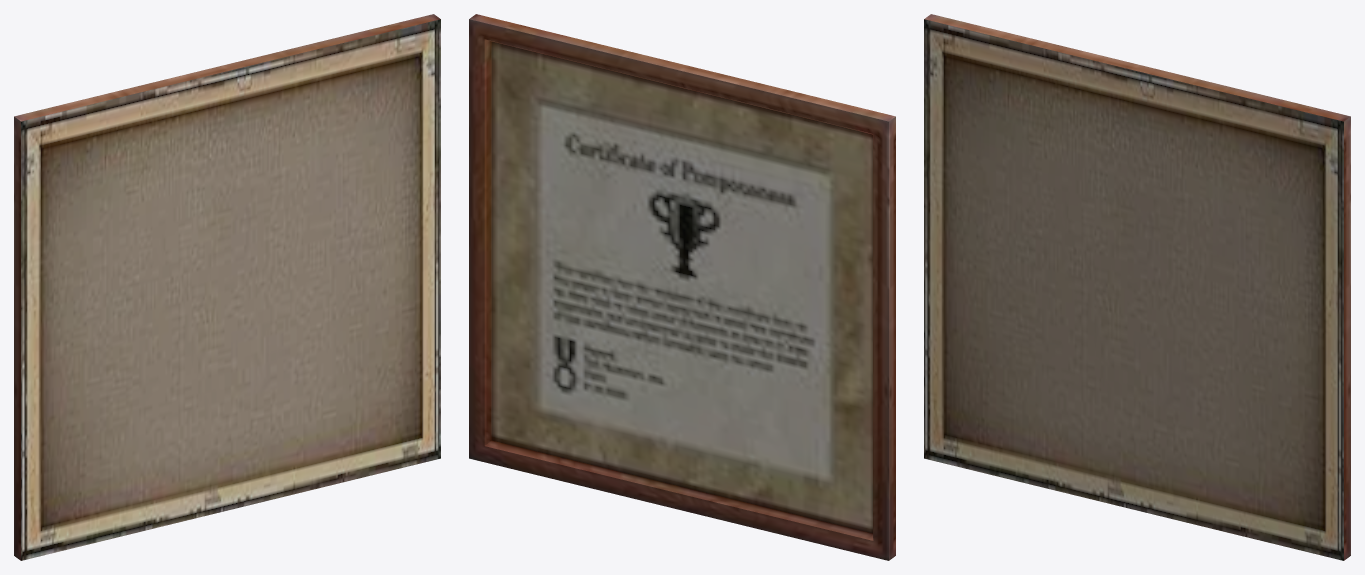
File: offcertificatea.glb
3 renders of one model, left to right at view 1: azimuth 30°, elevation 25°; view 2: azimuth 150°, elevation 25°; view 3: azimuth 330°, elevation 25°, orthographic.
Visible parts, largest first — view 1: 0_Poster_backing, 1_offcertificatea; view 2: 1_offcertificatea; view 3: 0_Poster_backing, 1_offcertificatea.
Part boxes in pixels (bbox=[...]): 0_Poster_backing: bbox=[21, 19, 440, 560]; 1_offcertificatea: bbox=[14, 14, 440, 560]; 1_offcertificatea: bbox=[469, 14, 895, 560]; 0_Poster_backing: bbox=[924, 19, 1343, 560]; 1_offcertificatea: bbox=[924, 14, 1350, 560].
Size of the model in its own units: 0.6096 by 0.6096 by 0.0178.
Materials: 2 (2 with a texture image).
